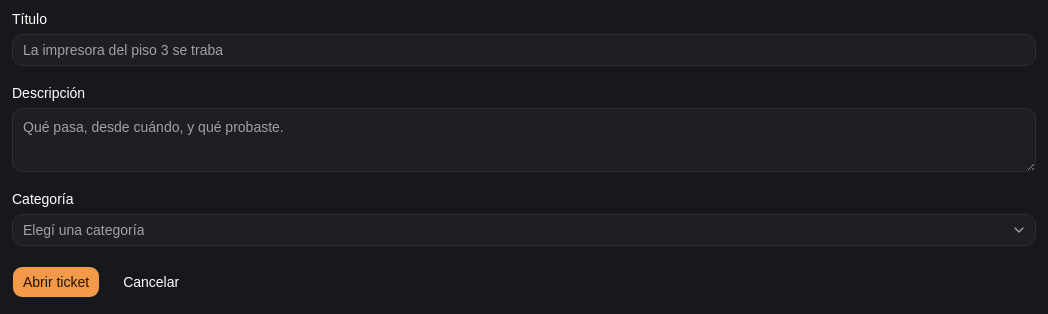
TicketForm › offers every category, used ones included
The image size is (1048, 314).
Click the dropdown labelled "categoría": (84, 230) top-left (12, 214), bottom-right (1036, 246)
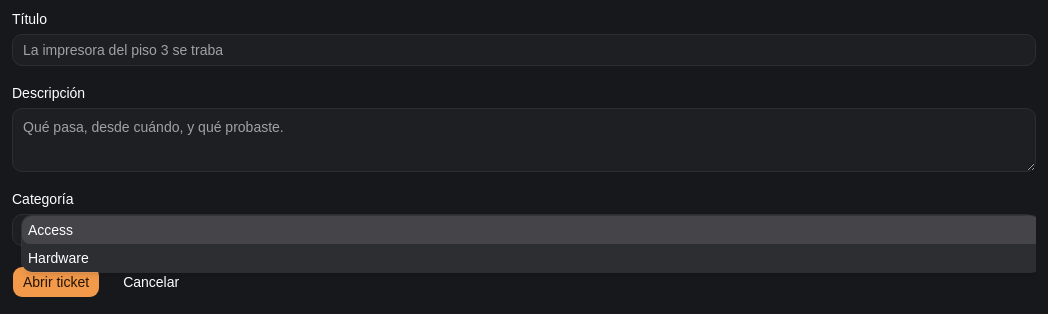
Result: the text "Access" is shown at top-left (28, 220), bottom-right (73, 240)
Result: the text "Hardware" is shown at top-left (28, 248), bottom-right (89, 268)
